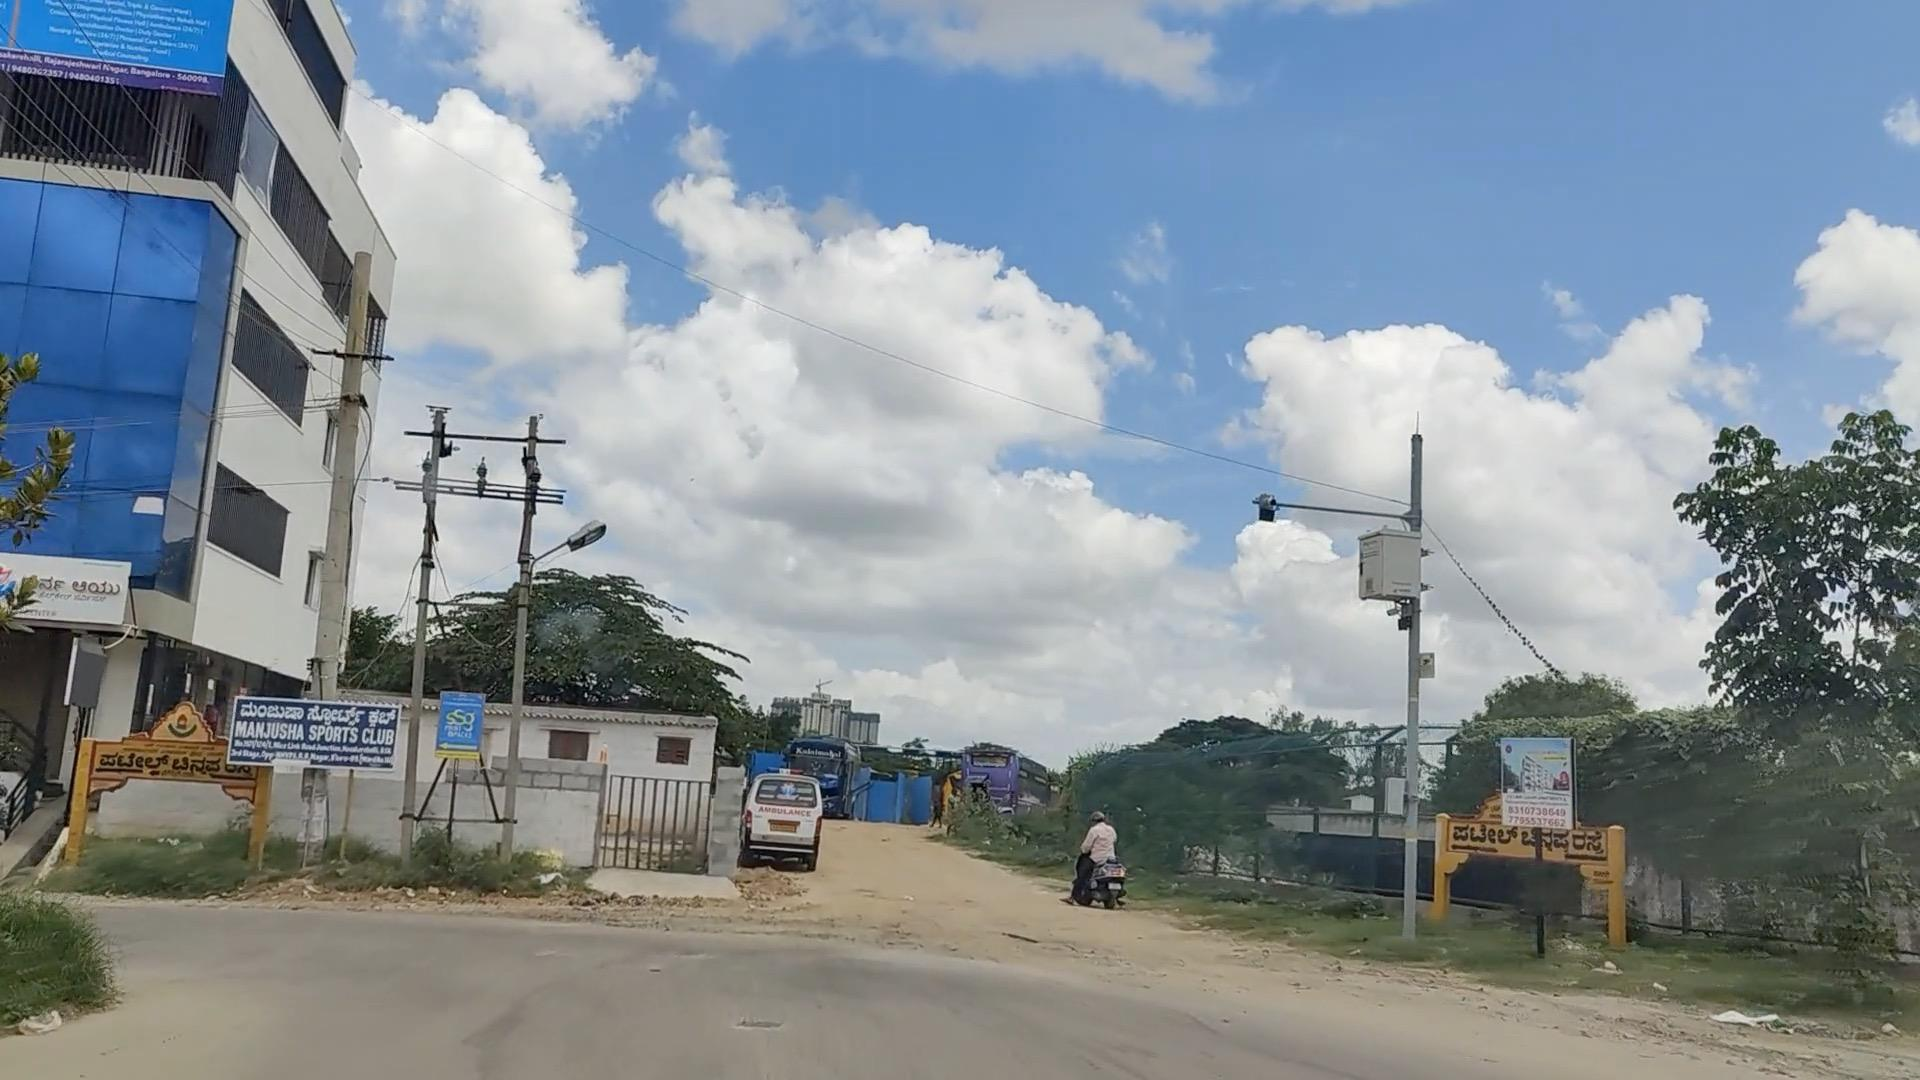LMV: (748, 765, 843, 873), (1063, 810, 1135, 902)
